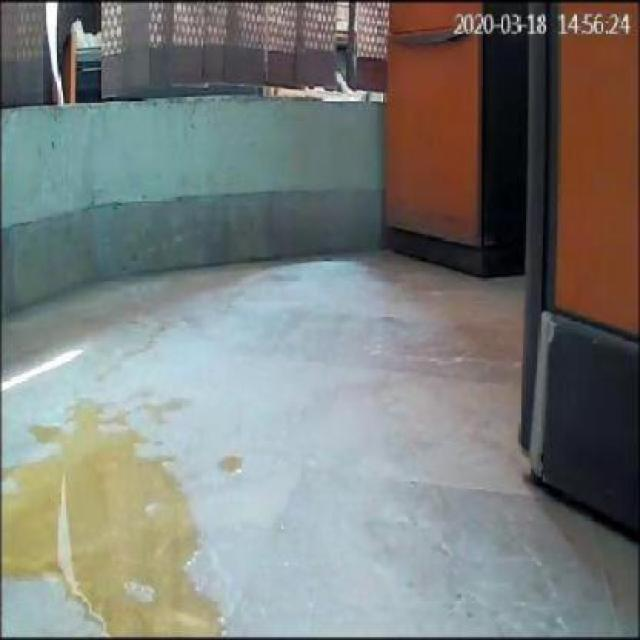spillage: (3, 399, 224, 638)
